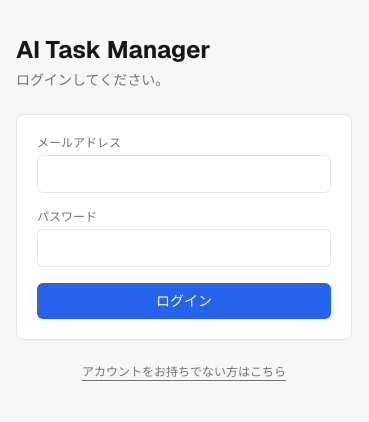
Test case: AuthForm › 通信できないときは接続を疑う案内を出す
Type "a@example.com" into the field labelled "メールアドレス" at (184, 174), box x1=37 y1=155 x2=331 y2=193
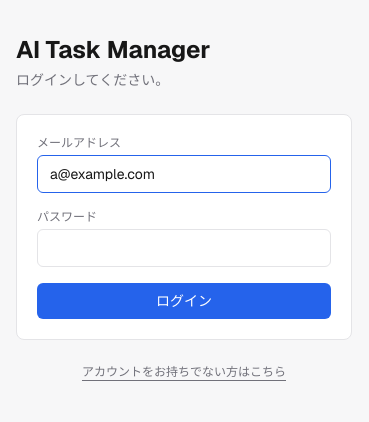
Type "password123" into the password field labelled "パスワード" at (184, 248), box x1=37 y1=229 x2=331 y2=267
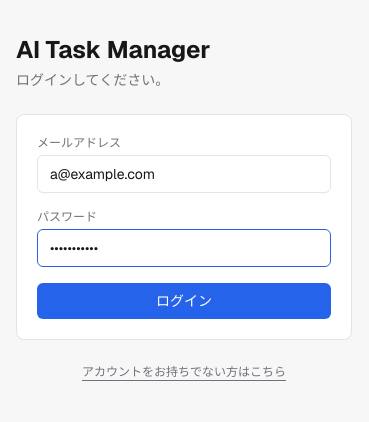
Click the button "ログイン" at (184, 301), box x1=37 y1=283 x2=331 y2=319
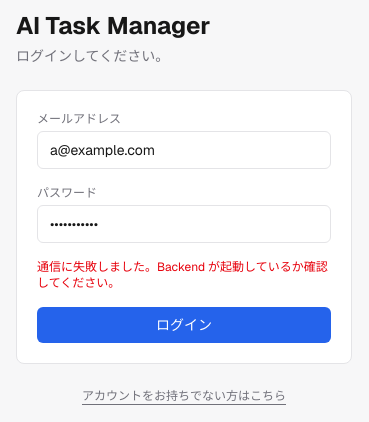
Check: the text "通信に失敗しました。Backend が起動しているか確認してください。" is shown, box x1=37 y1=259 x2=331 y2=291
